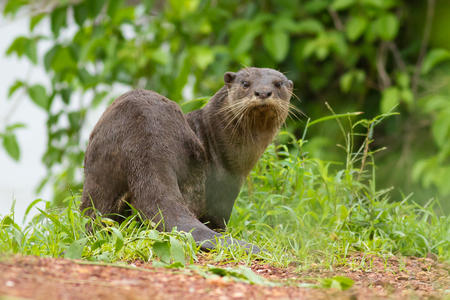otter: (69, 61, 299, 263)
